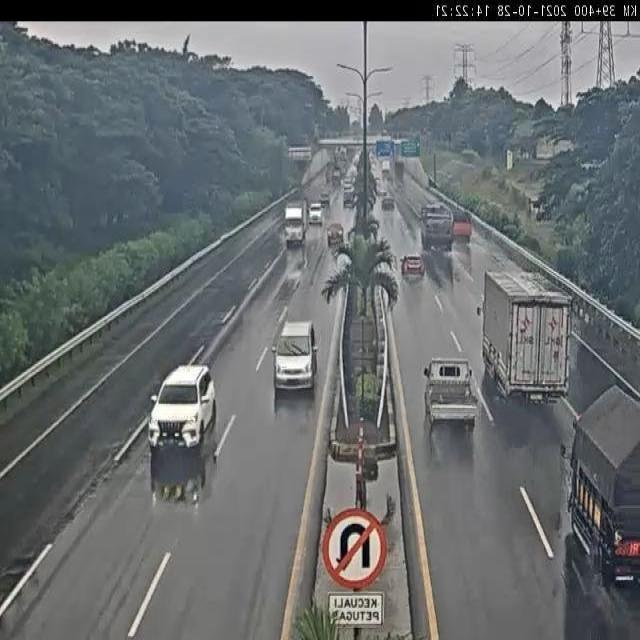Car: (148, 363, 216, 449), (401, 255, 425, 279), (327, 222, 344, 248), (309, 202, 323, 224), (381, 195, 395, 210), (342, 190, 353, 208), (381, 161, 391, 178), (342, 177, 353, 192), (320, 191, 330, 205)
Truck: (560, 386, 640, 589), (476, 267, 574, 408), (421, 358, 480, 432), (417, 202, 454, 250), (284, 199, 308, 248), (450, 207, 475, 242)
Van: (272, 319, 319, 393)
